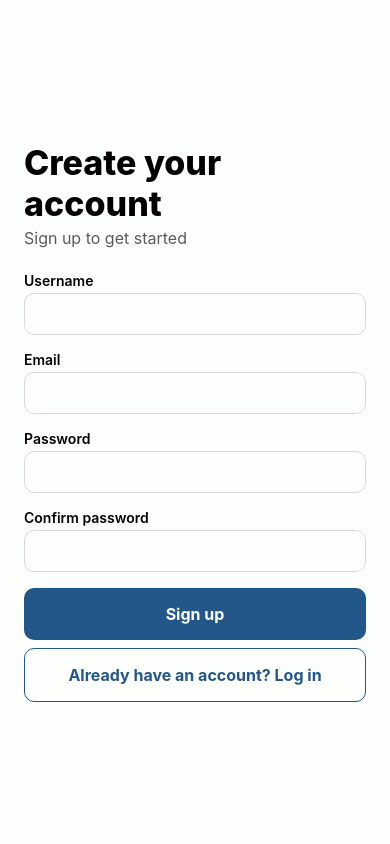
Test case: SignupScreen › shows the server error message in a banner when signup fails (duplicate username)
This screenshot has width=390, height=844.
Type "john" into the field named "Username" at (195, 314), box [24,293,366,335]
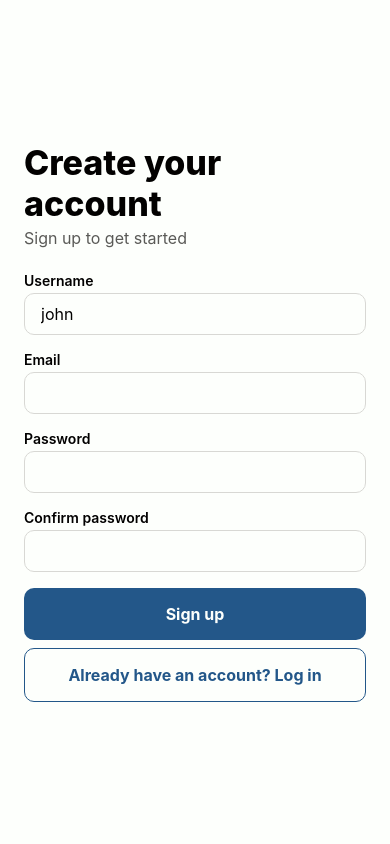
Type "john@example.com" into the field named "Email" at (195, 393), box [24,372,366,414]
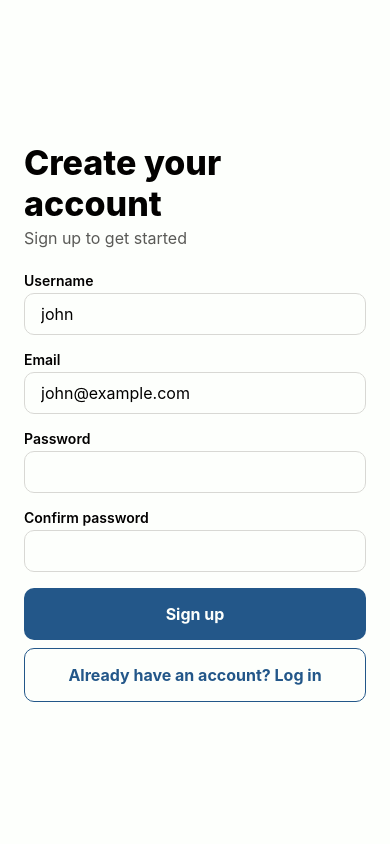
Type "password123" into the password field named "Password" at (195, 472), box [24,451,366,493]
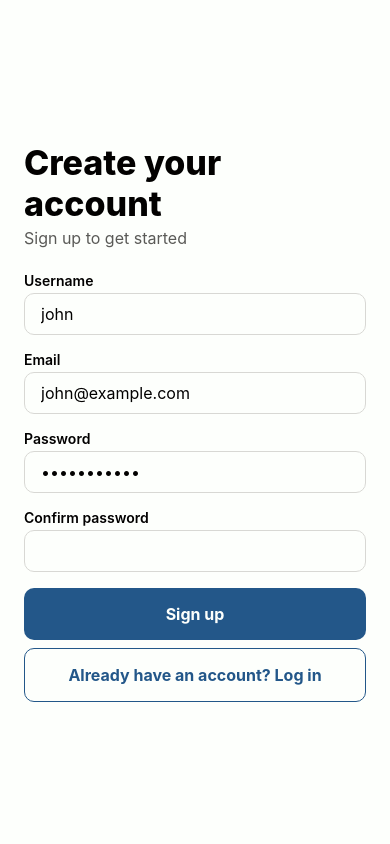
Type "password123" into the password field named "Confirm password" at (195, 551), box [24,530,366,572]
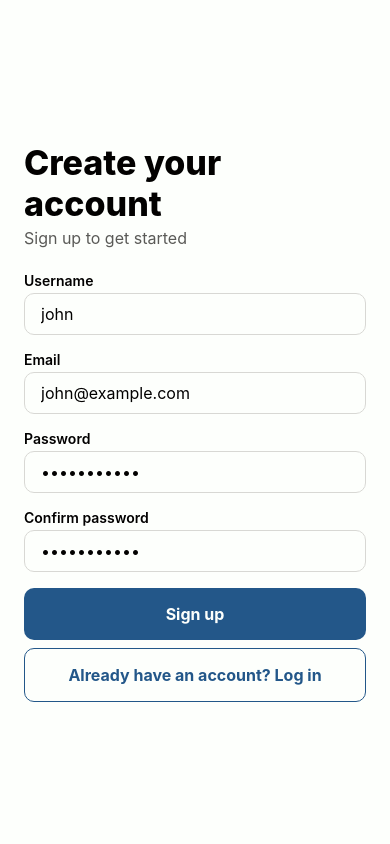
Click the text "Sign up" at (195, 614), box [166,604,224,624]
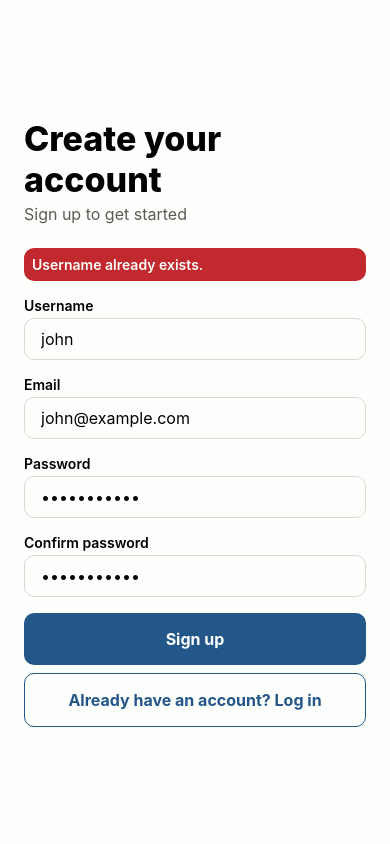
expect the text "Username already exists." is shown: met, box [32,256,203,272]
